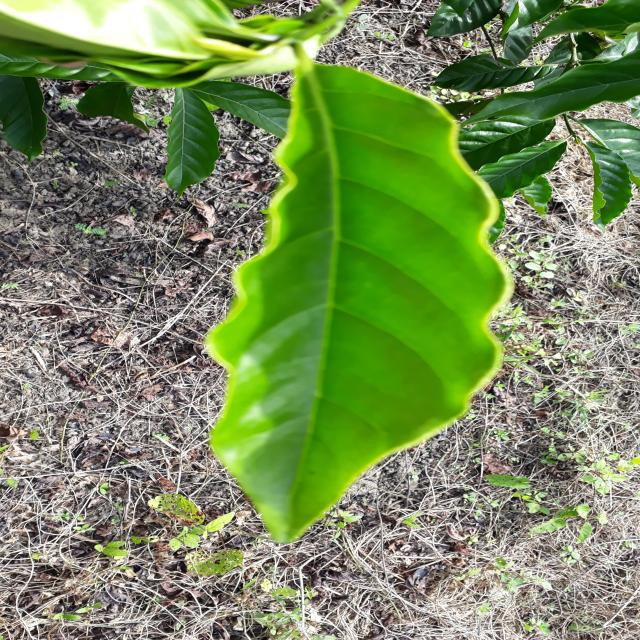Sanas: (203, 47, 512, 546)
